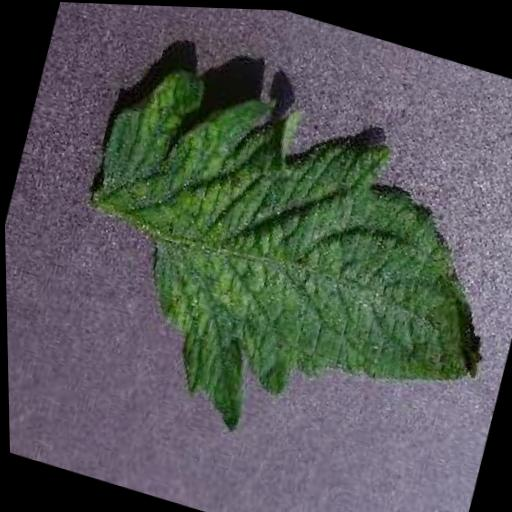Mosaic Virus: (38, 45, 512, 501)
